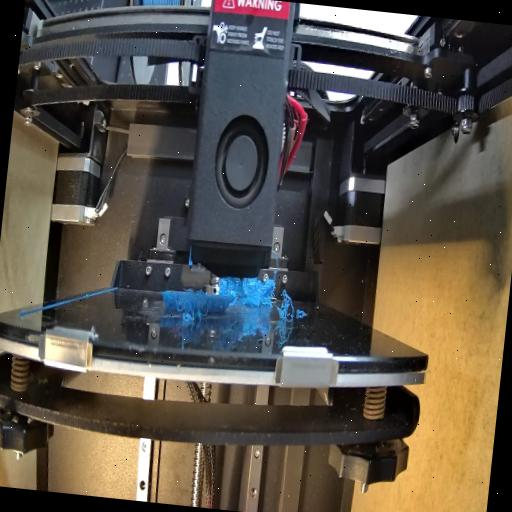spaghetti: (216, 275, 278, 313), (174, 281, 213, 325), (272, 292, 296, 326)
